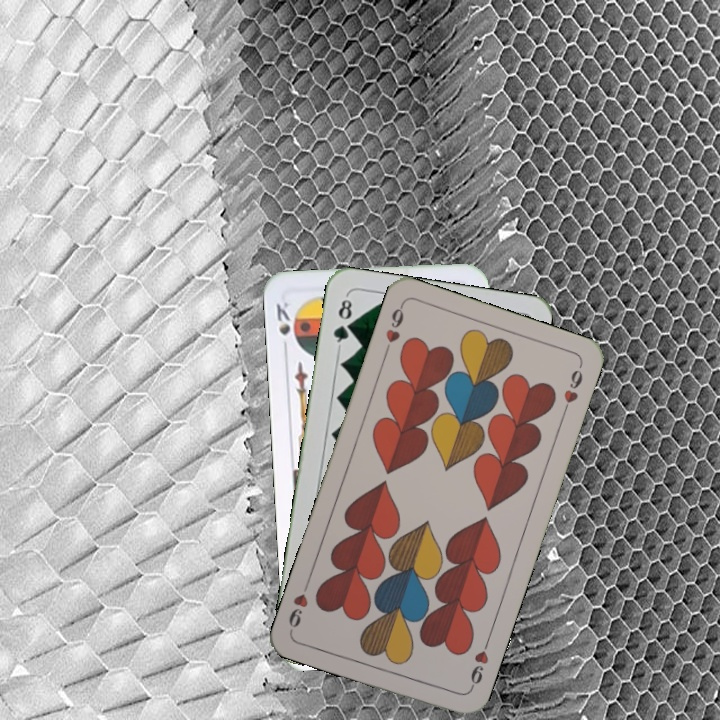G8: (329, 292, 355, 351)
H9: (380, 300, 407, 358), (465, 636, 492, 693)
SK: (272, 298, 294, 338)
